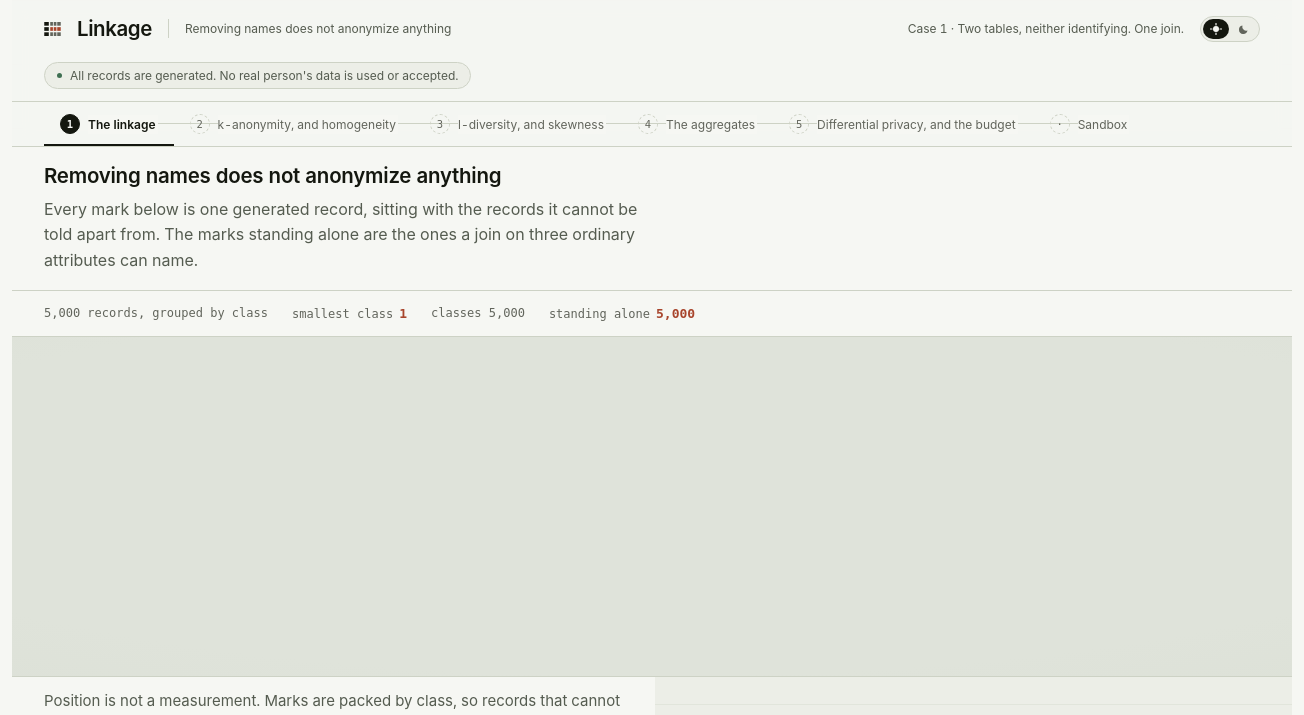
Test: the application boots › opens the synthetic-data explanation without navigating away
This screenshot has width=1304, height=715.
Click the button with class "synthetic__marker": (258, 76) left=44, top=62, right=472, bottom=89
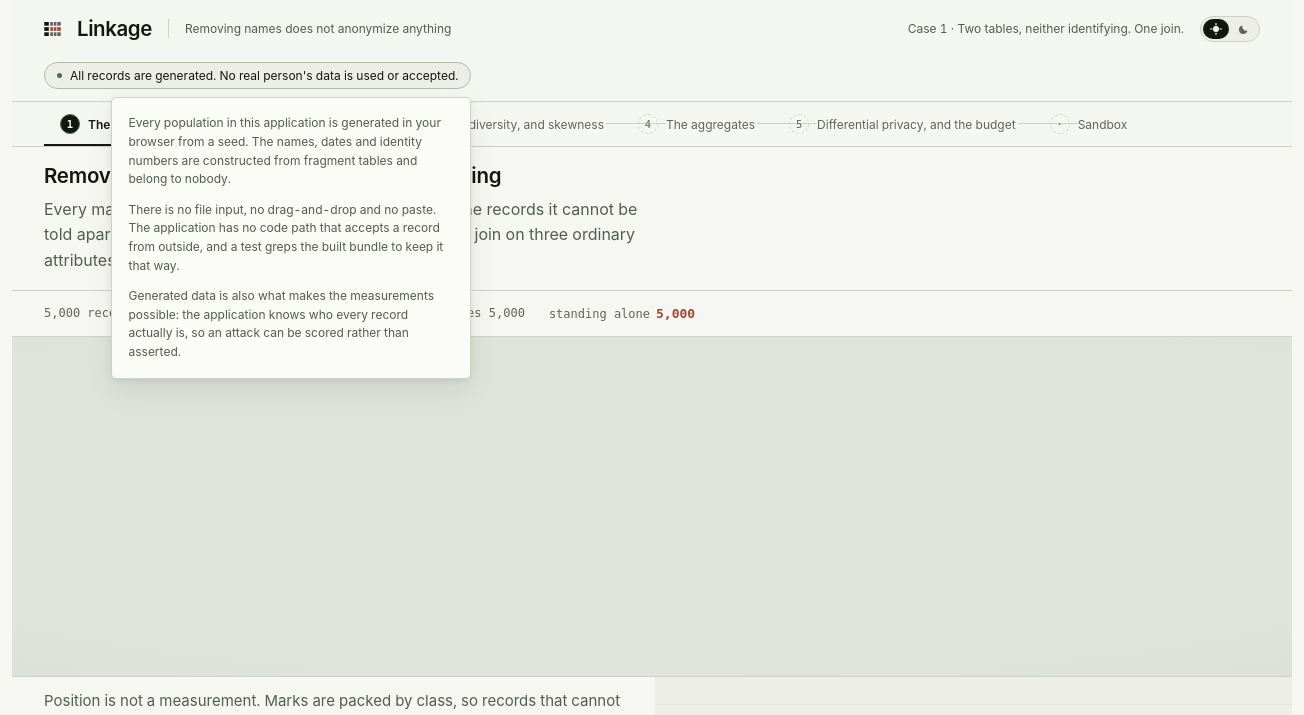
Now the element with class "synthetic__body" shows "no file input", box left=128, top=202, right=443, bottom=273
